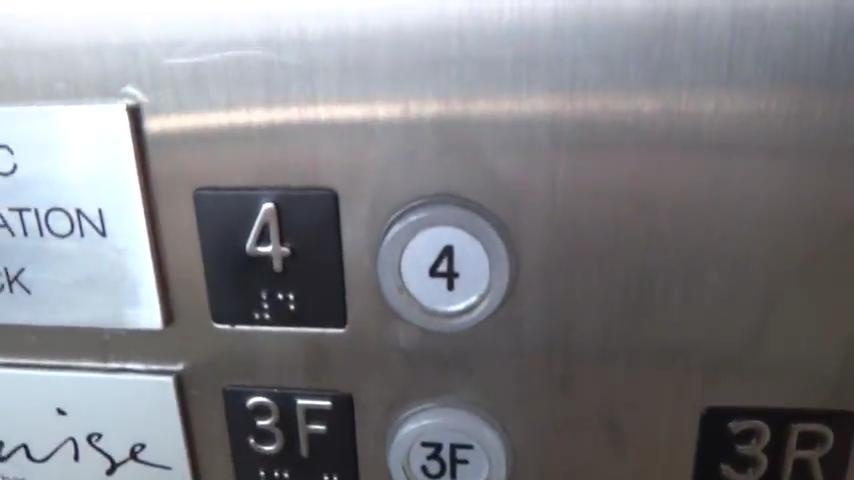3F: (218, 380, 365, 480), (382, 397, 512, 480)
4: (188, 183, 356, 342), (371, 191, 523, 341)
